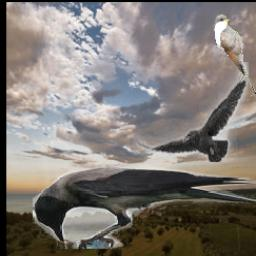Crow: (33, 164, 256, 249), (133, 63, 249, 163)
Cuckoo: (214, 14, 256, 96)
